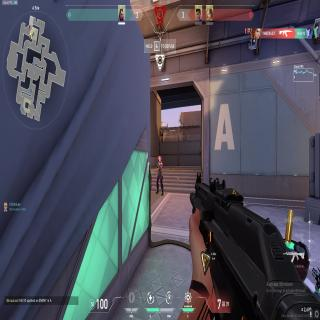ENEMY-BODY: (156, 154, 164, 198)
ENEMY-HEAD: (158, 155, 162, 162)
